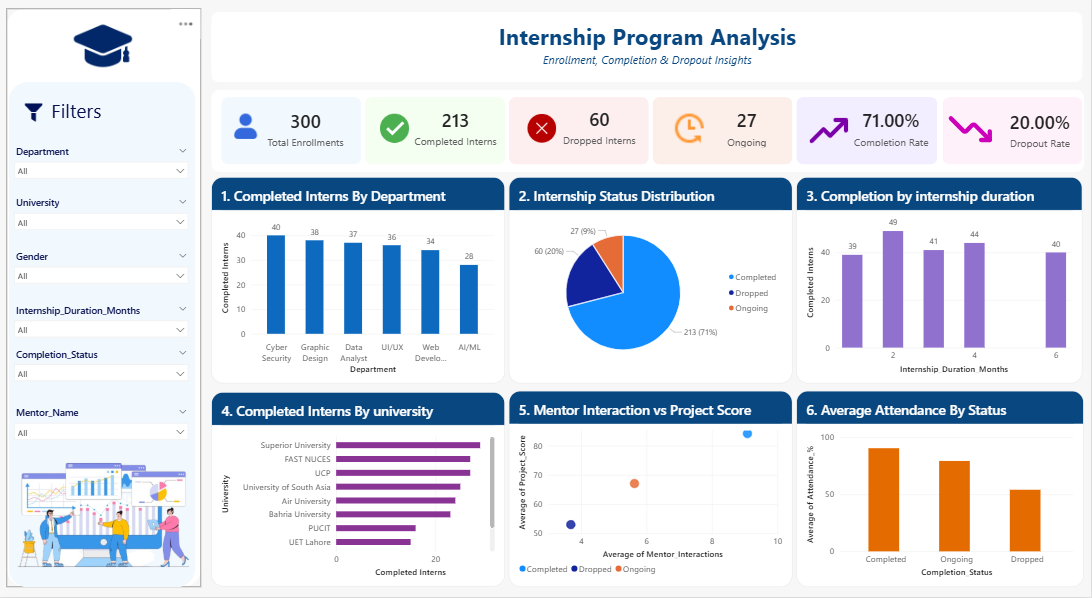

The page's visual inventory and layout, read from the dashboard file:
{"tool":"powerbi","page":{"name":"Page 1","canvas":[1817,1000],"ordinal":0},"visuals":[{"type":"shape","box":[352.1,154.2,1455,137.5],"z":0},{"type":"shape","box":[847.9,166.7,233.3,112.5],"z":1000},{"type":"shape","box":[1087.5,166.7,233.3,112.5],"z":2000},{"type":"shape","box":[1327.1,166.7,235.4,112.5],"z":3000},{"type":"shape","box":[1570.8,166.7,233.3,112.5],"z":4000},{"type":"shape","box":[608.3,166.7,233.3,112.5],"z":5000},{"type":"shape","box":[368.8,166.7,233.3,112.5],"z":6000},{"type":"shape","box":[352.1,25,1452.1,116.7],"z":7000},{"type":"shape","box":[9.7,18.5,325.9,964.8],"z":8000},{"type":"shape","box":[14,142.2,311.1,842.2],"z":9000},{"type":"card","fields":{"Values":["Internship_Data.Completed Interns"]},"box":[670.8,166.7,177.1,100],"z":10000},{"type":"card","fields":{"Values":["Internship_Data.Total Enrollments"]},"box":[439.6,177.1,139.6,81.2],"z":11000},{"type":"card","fields":{"Values":["Internship_Data.Dropped Interns"]},"box":[916.7,166.7,164.6,97.9],"z":12000},{"type":"card","fields":{"Values":["Internship_Data.Ongoing"]},"box":[1183.3,168.8,122.9,97.9],"z":13000},{"type":"card","fields":{"Values":["Internship_Data.Completion Rate"]},"box":[1402.1,170.8,166.7,93.8],"z":14000},{"type":"card","fields":{"Values":["Internship_Data.Dropout Rate"]},"box":[1662.5,170.8,141.7,97.9],"z":15000},{"type":"textbox","title":"Internship Program Analysis","box":[352.1,33.3,1452.1,97.9],"z":16000},{"type":"clusteredColumnChart","title":"1. Completed Interns By Department","fields":{"Category":["Internship_Data.Department"],"Y":["Internship_Data.Completed Interns"]},"box":[352.1,300,489.6,343.8],"z":17000},{"type":"pieChart","title":"2. Internship Status Distribution","fields":{"Category":["Internship_Data.Completion_Status"],"Y":["Internship_Data.Total Enrollments"]},"box":[847.9,300,472.9,343.8],"z":18000},{"type":"columnChart","title":"3. Completion by internship duration","fields":{"Category":["Internship_Data.Internship_Duration_Months"],"Y":["Internship_Data.Completed Interns"]},"box":[1327.1,300,477.1,343.8],"z":19000},{"type":"scatterChart","title":"5. Mentor Interaction vs Project Score","fields":{"Series":["Internship_Data.Completion_Status"],"X":["Avg(Internship_Data.Mentor_Interactions)"],"Y":["Avg(Internship_Data.Project_Score)"]},"box":[847.9,656.2,472.9,327.1],"z":20000},{"type":"clusteredColumnChart","title":"6. Average Attendance By Status","fields":{"Category":["Internship_Data.Completion_Status"],"Y":["Avg(Internship_Data.Attendance_%)"]},"box":[1327.1,656.2,479.2,327.1],"z":21000},{"type":"slicer","fields":{"Values":["Internship_Data.Department"]},"box":[19.6,245.2,300,73.3],"z":22000},{"type":"slicer","fields":{"Values":["Internship_Data.University"]},"box":[19.6,330.3,300,89.8],"z":23000},{"type":"slicer","fields":{"Values":["Internship_Data.Gender"]},"box":[19.6,420.1,300,75.5],"z":24000},{"type":"slicer","fields":{"Values":["Internship_Data.Internship_Duration_Months"]},"box":[19.6,509.9,300,73.5],"z":25000},{"type":"slicer","fields":{"Values":["Internship_Data.Completion_Status"]},"box":[19.6,583.4,300,77.6],"z":26000},{"type":"slicer","fields":{"Values":["Internship_Data.Mentor_Name"]},"box":[19.6,680.9,300,71.2],"z":27000},{"type":"image","box":[383.3,185.4,52.1,60.4],"z":28000},{"type":"barChart","title":"4. Completed Interns By university","fields":{"Category":["Internship_Data.University"],"Y":["Internship_Data.Completed Interns"]},"box":[351.7,658.6,489.7,324.1],"z":29000},{"type":"image","box":[40,33.3,264.4,97.8],"z":30000},{"type":"image","box":[12.2,759.2,320.4,224.5],"z":31000},{"type":"image","box":[618.8,189.6,77.1,58.3],"z":32000},{"type":"image","box":[877.1,189.6,52.1,58.3],"z":33000},{"type":"image","box":[1114.6,189.6,68.8,58.3],"z":34000},{"type":"image","box":[1343.2,188.6,75,70.5],"z":35000},{"type":"image","box":[1570.5,177.3,93.2,86.4],"z":36000},{"type":"textbox","box":[85.2,167.2,98.4,44.3],"z":37000},{"type":"image","box":[39.3,172.1,32.8,39.3],"z":38000}]}

Visuals, with their boxes in screenshot pixels (x1, y1, x2, y2), scaled from the page's 1817x1000 canvas onto the 1092x598 screenshot:
shape: (left=212, top=92, right=1086, bottom=174)
shape: (left=510, top=100, right=650, bottom=167)
shape: (left=654, top=100, right=794, bottom=167)
shape: (left=798, top=100, right=939, bottom=167)
shape: (left=944, top=100, right=1084, bottom=167)
shape: (left=366, top=100, right=506, bottom=167)
shape: (left=222, top=100, right=362, bottom=167)
shape: (left=212, top=15, right=1084, bottom=85)
shape: (left=6, top=11, right=202, bottom=588)
shape: (left=8, top=85, right=195, bottom=589)
card - Internship_Data.Completed Interns: (left=403, top=100, right=510, bottom=159)
card - Internship_Data.Total Enrollments: (left=264, top=106, right=348, bottom=154)
card - Internship_Data.Dropped Interns: (left=551, top=100, right=650, bottom=158)
card - Internship_Data.Ongoing: (left=711, top=101, right=785, bottom=159)
card - Internship_Data.Completion Rate: (left=843, top=102, right=943, bottom=158)
card - Internship_Data.Dropout Rate: (left=999, top=102, right=1084, bottom=161)
"Internship Program Analysis" textbox: (left=212, top=20, right=1084, bottom=78)
"1. Completed Interns By Department" clusteredColumnChart: (left=212, top=179, right=506, bottom=385)
"2. Internship Status Distribution" pieChart: (left=510, top=179, right=794, bottom=385)
"3. Completion by internship duration" columnChart: (left=798, top=179, right=1084, bottom=385)
"5. Mentor Interaction vs Project Score" scatterChart: (left=510, top=392, right=794, bottom=588)
"6. Average Attendance By Status" clusteredColumnChart: (left=798, top=392, right=1086, bottom=588)
slicer - Internship_Data.Department: (left=12, top=147, right=192, bottom=190)
slicer - Internship_Data.University: (left=12, top=198, right=192, bottom=251)
slicer - Internship_Data.Gender: (left=12, top=251, right=192, bottom=296)
slicer - Internship_Data.Internship_Duration_Months: (left=12, top=305, right=192, bottom=349)
slicer - Internship_Data.Completion_Status: (left=12, top=349, right=192, bottom=395)
slicer - Internship_Data.Mentor_Name: (left=12, top=407, right=192, bottom=450)
image: (left=230, top=111, right=262, bottom=147)
"4. Completed Interns By university" barChart: (left=211, top=394, right=506, bottom=588)
image: (left=24, top=20, right=183, bottom=78)
image: (left=7, top=454, right=200, bottom=588)
image: (left=372, top=113, right=418, bottom=148)
image: (left=527, top=113, right=558, bottom=148)
image: (left=670, top=113, right=711, bottom=148)
image: (left=807, top=113, right=852, bottom=155)
image: (left=944, top=106, right=1000, bottom=158)
textbox: (left=51, top=100, right=110, bottom=126)
image: (left=24, top=103, right=43, bottom=126)
